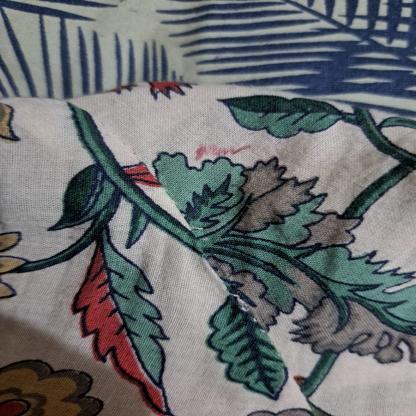spot: (191, 137, 255, 164)
